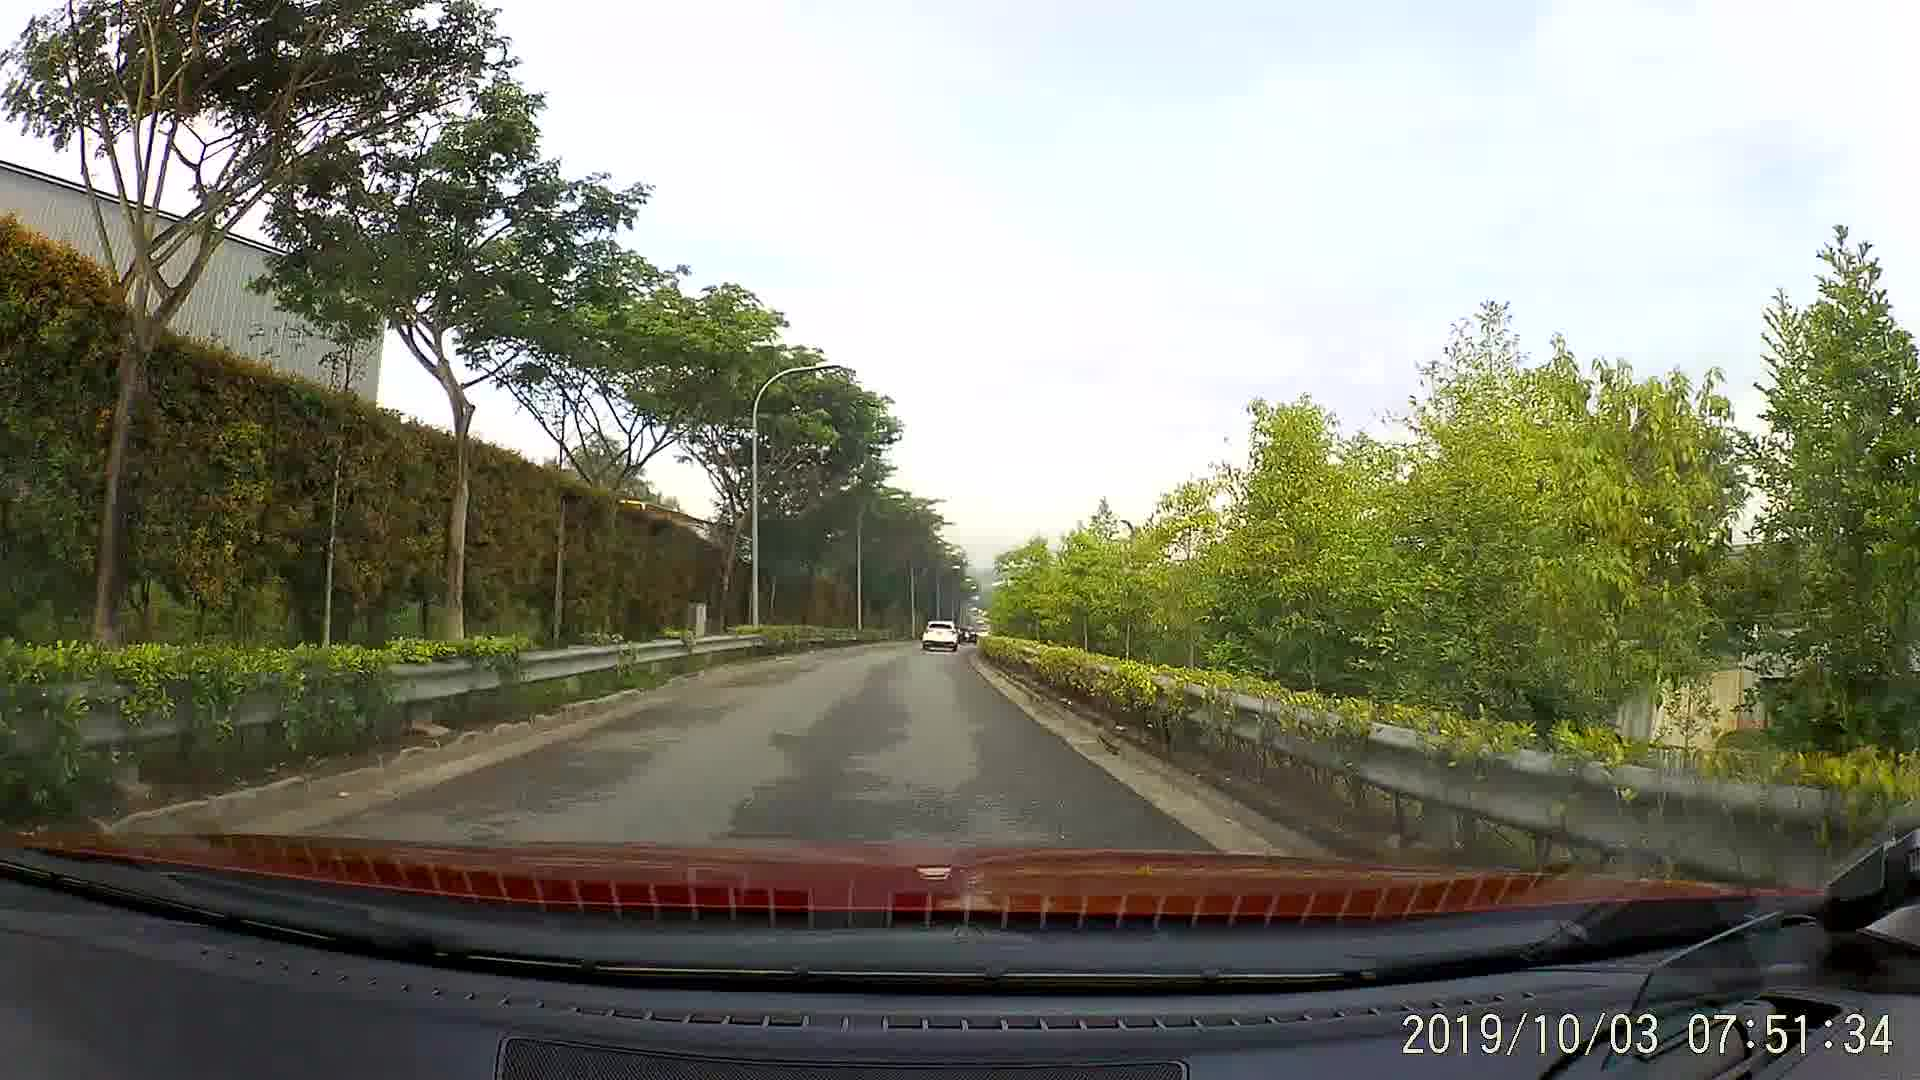car: (918, 617, 960, 650), (960, 626, 980, 644)
